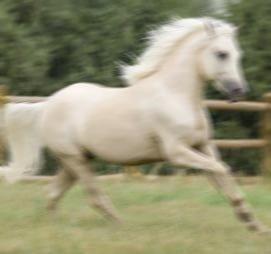horse: (0, 13, 271, 234)
